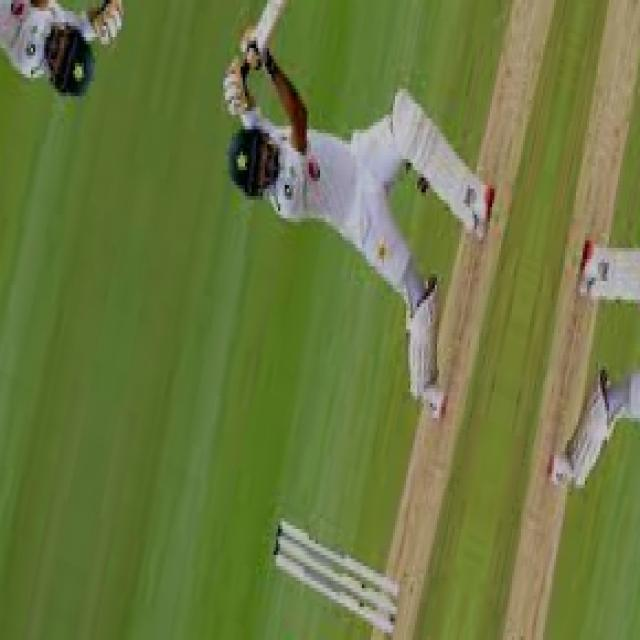toe: (266, 0, 290, 11)
